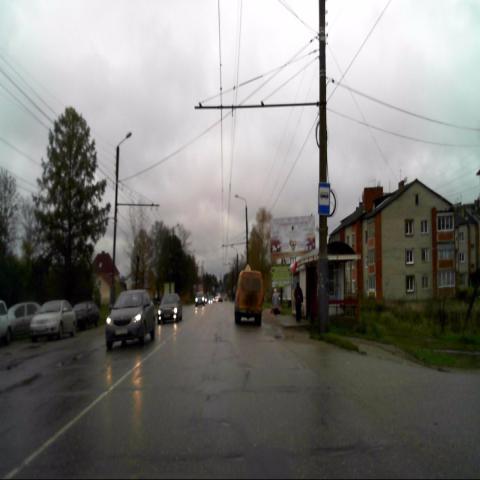5_16: (318, 181, 330, 217)
